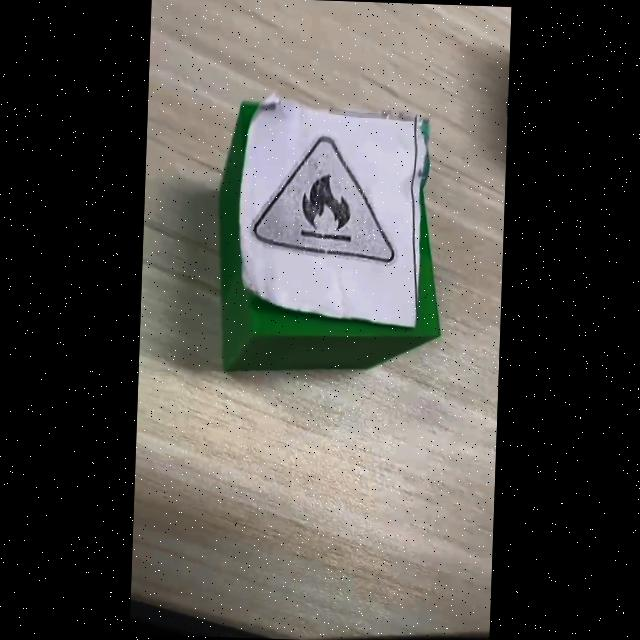Fire: (253, 136, 394, 263)
